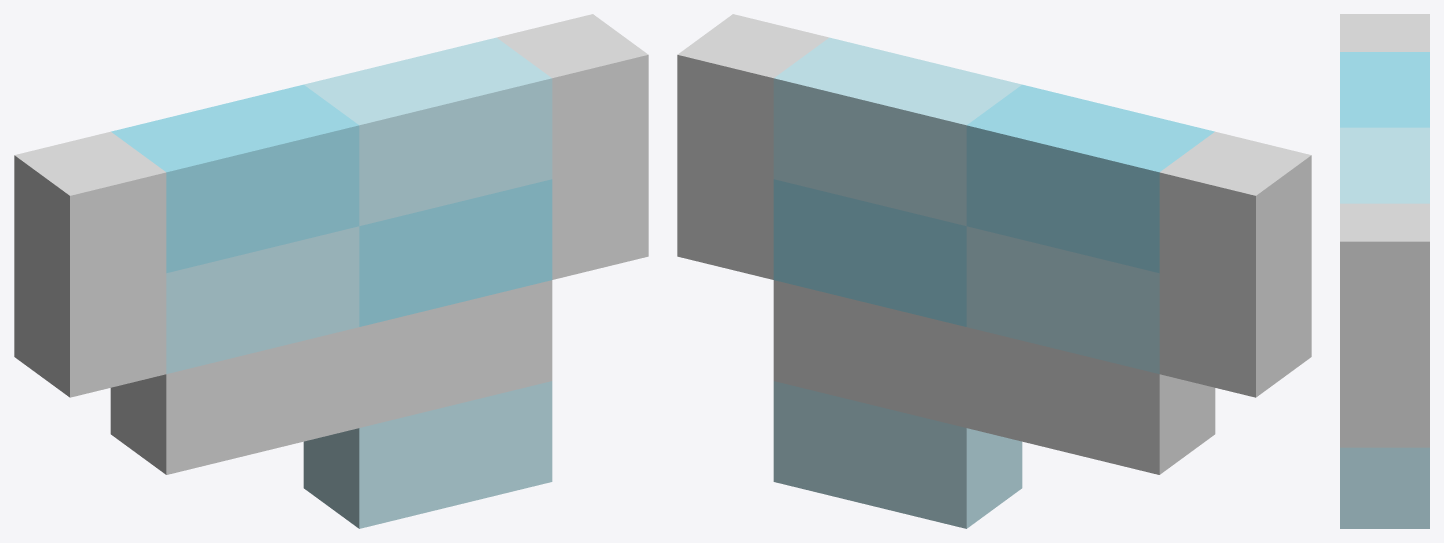
The model's file is YellowHouseParts-73.obj.
The picture shows the model from 3 angles, left to right: view 1: azimuth 30°, elevation 25°; view 2: azimuth 150°, elevation 25°; view 3: azimuth 270°, elevation 25°; orthographic projection. The views are drawn at different scales.
Size of the model in its own units: 0.6 by 0.4 by 0.1.
1 material, 1 textured.
